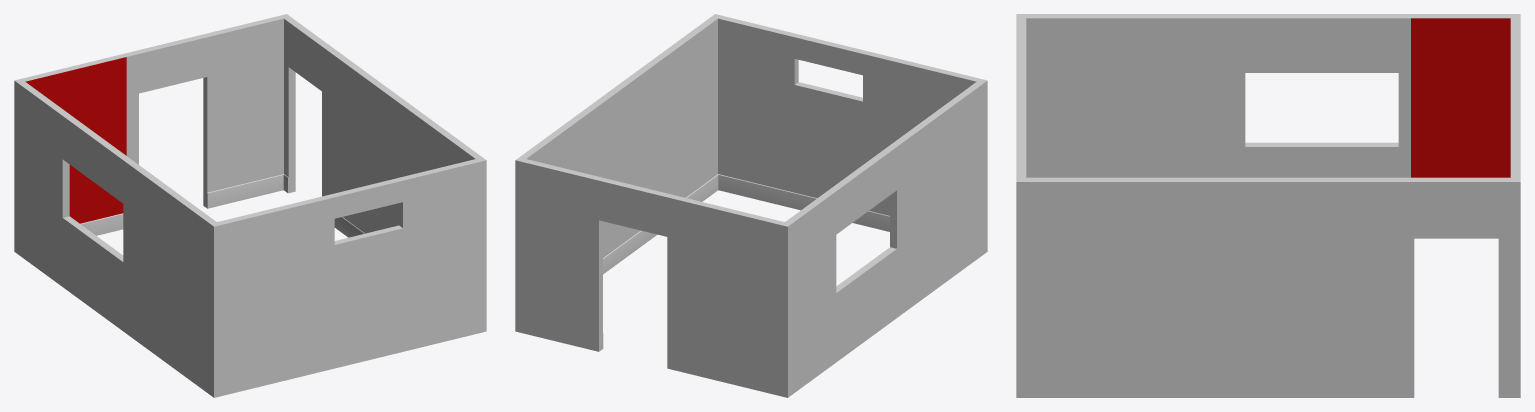
File: BoysRoom_UV2Set.fbx
3 views of the same model, side by side, from view 1: azimuth 30°, elevation 25°; view 2: azimuth 150°, elevation 25°; view 3: azimuth 270°, elevation 25° (orthographic). The views are drawn at different scales.
Visible parts, largest first — view 1: Sweep_Null; view 2: Sweep_Null; view 3: Sweep_Null.
Part boxes in pixels (x1,y1,x2,y2): Sweep_Null: (14,14,486,397); Sweep_Null: (515,14,987,397); Sweep_Null: (1016,14,1520,397).
Bounding box in the file's own units: 591 × 355 × 751.
